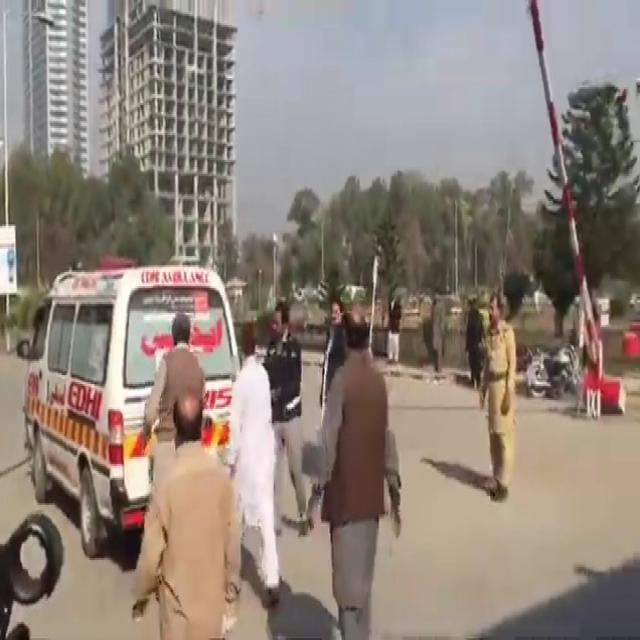ambulance: (21, 279, 249, 518)
